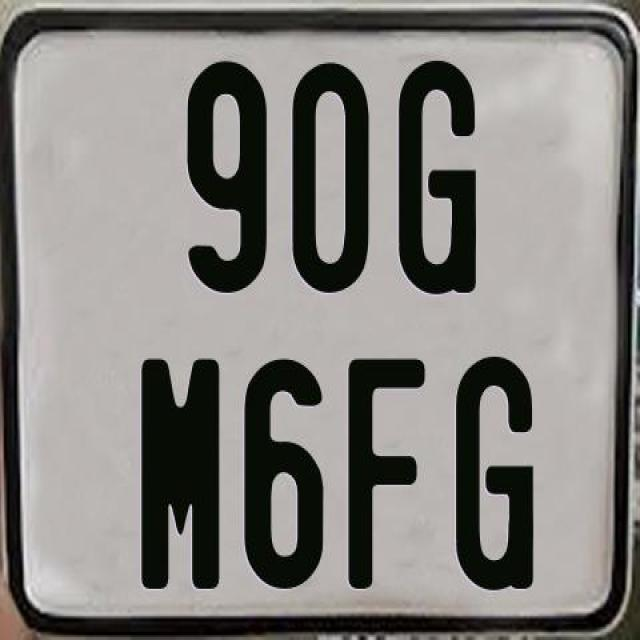0: (290, 58, 370, 288)
6: (240, 353, 326, 588)
9: (187, 60, 270, 302)
F: (345, 356, 428, 588)
G: (398, 58, 482, 292), (452, 356, 532, 598)
M: (140, 358, 220, 594)
